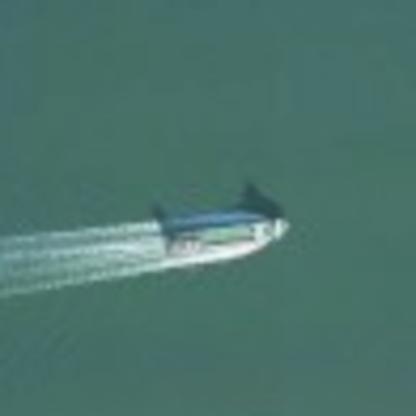ship: (149, 205, 297, 271)
